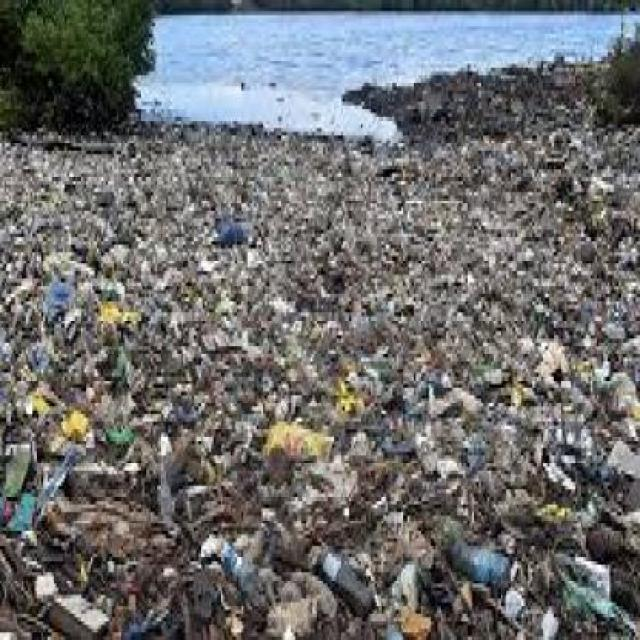garbage: (0, 117, 638, 636)
